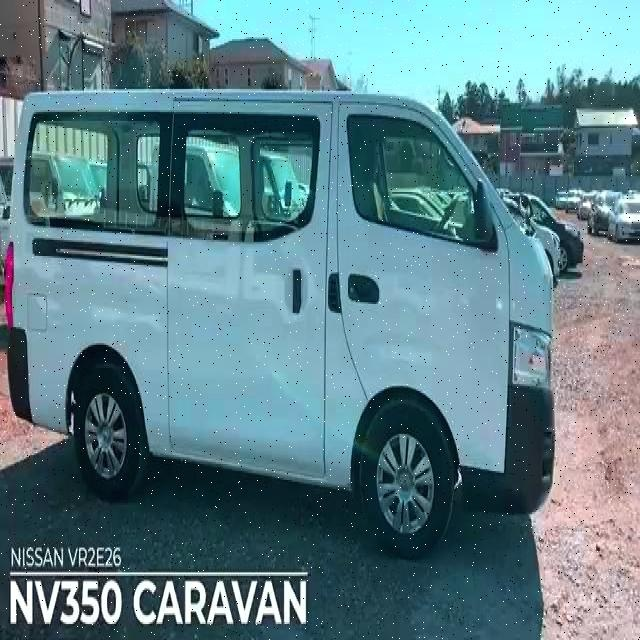Van: (9, 86, 558, 556)
